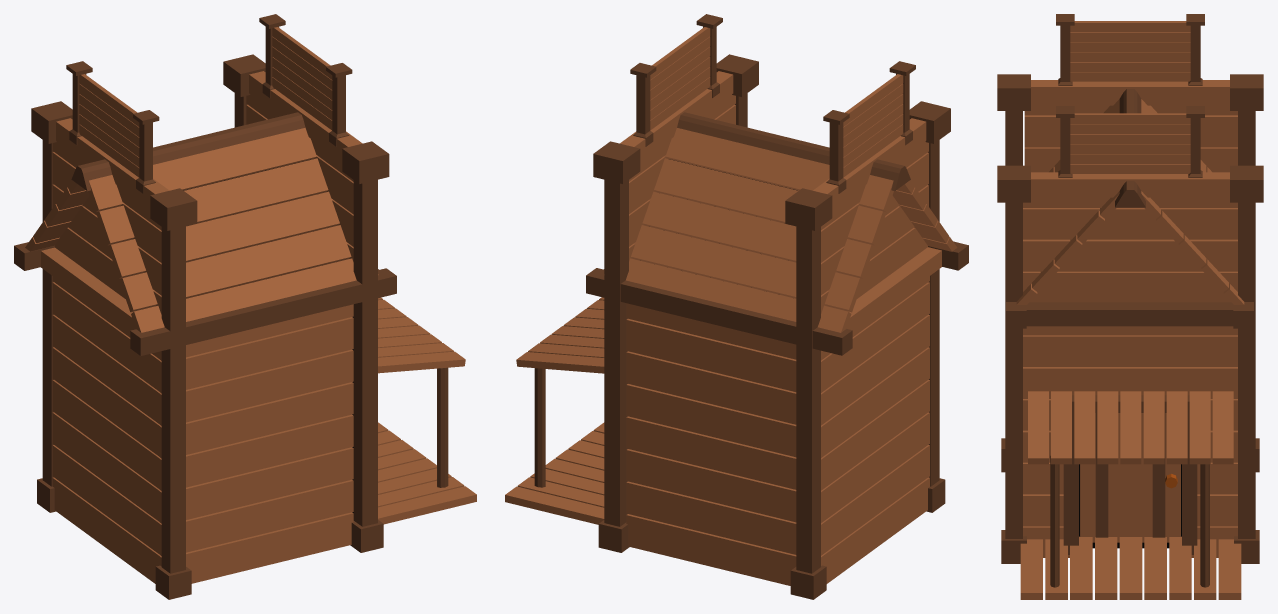
File: Building.fbx
3 renders of one model, left to right at view 1: azimuth 30°, elevation 25°; view 2: azimuth 150°, elevation 25°; view 3: azimuth 270°, elevation 25°, orthographic. The views are drawn at different scales.
Visible parts, largest first — view 1: WildWestBuild1; view 2: WildWestBuild1; view 3: WildWestBuild1.
Part boxes in pixels (x1,y1,x2,y2): WildWestBuild1: (14,14,476,599); WildWestBuild1: (505,14,968,599); WildWestBuild1: (997,14,1263,599).
Size of the model in its own units: 248 by 316 by 170.
